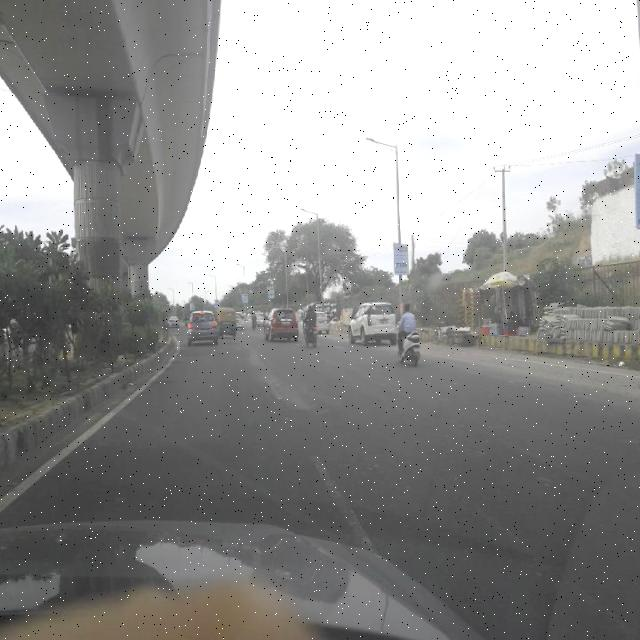D00: (450, 483, 610, 628)
D20: (230, 353, 332, 427)
D44: (304, 450, 381, 551)
